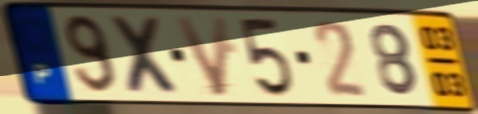2: (313, 18, 369, 100)
5: (237, 15, 296, 100)
8: (368, 21, 421, 99)
9: (63, 11, 120, 98)
V: (171, 14, 231, 100)
X: (105, 13, 187, 98)
